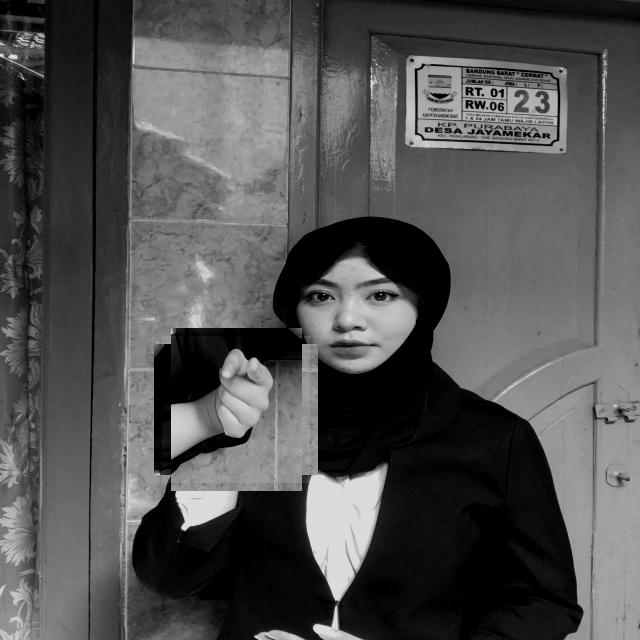kamu: (162, 336, 310, 483)
